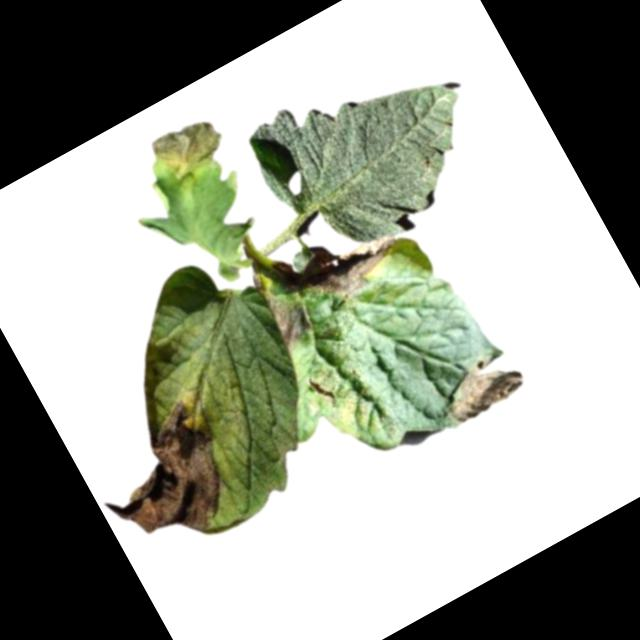Late_blight: (80, 389, 251, 564), (295, 210, 411, 311), (433, 346, 529, 428), (147, 111, 234, 190), (254, 280, 322, 356)
healthy: (238, 31, 503, 279)
